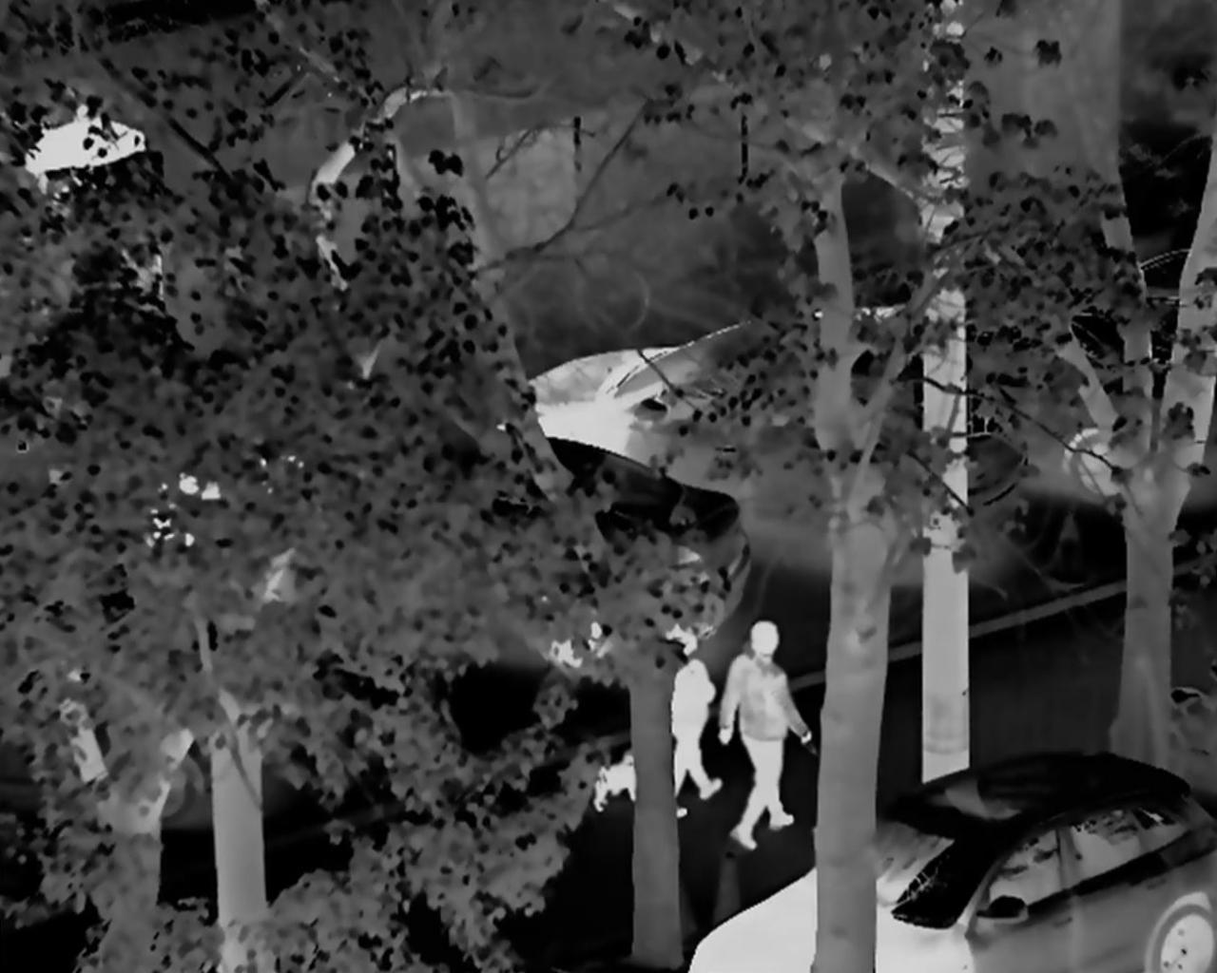person: (705, 605, 810, 860), (651, 620, 726, 818)
